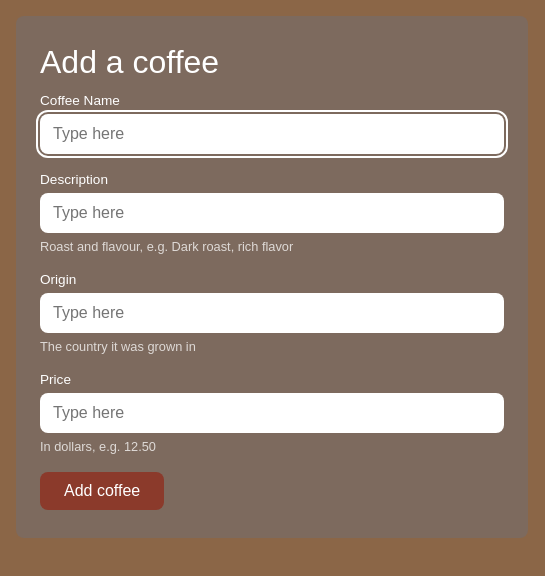
Admin portal form › complains about empty fields instead of posting
Click the button "Add coffee" at x=102, y=491, box [40, 472, 164, 510]
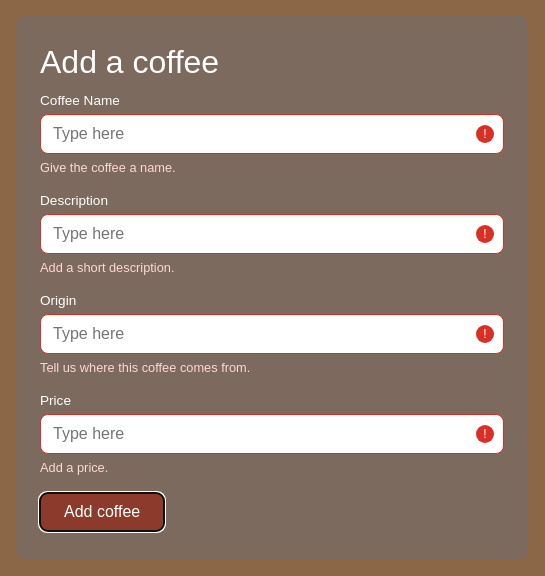
Now the text "Give the coffee a name." is shown, box [40, 160, 176, 175]
Now the text "Tell us where this coffee comes from." is shown, box [40, 360, 250, 375]
